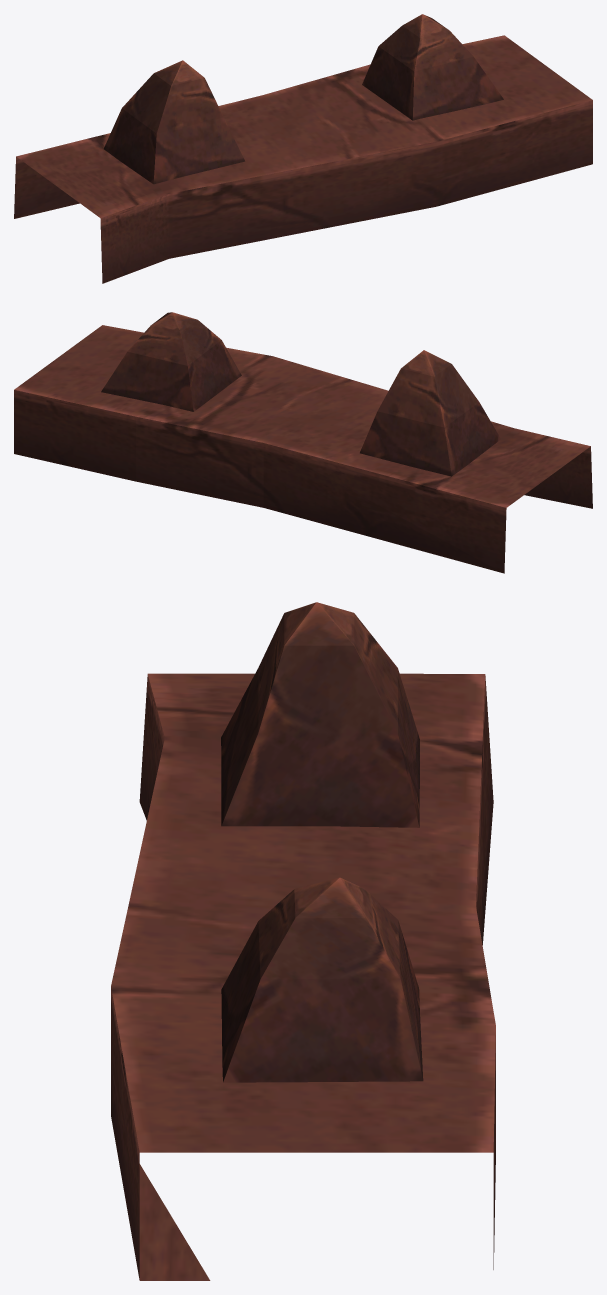
File: lava_cap_straight_01.fbx
The picture shows the model from 3 angles, top to bottom: view 1: azimuth 30°, elevation 25°; view 2: azimuth 150°, elevation 25°; view 3: azimuth 270°, elevation 25°; orthographic projection. The views are drawn at different scales.
Parts seen in each view (by area): view 1: obj1.006; view 2: obj1.006; view 3: obj1.006.
Part boxes in pixels (box(x1,y1,x2,y2)): obj1.006: box(14, 14, 592, 283); obj1.006: box(14, 312, 592, 573); obj1.006: box(111, 602, 495, 1280).
Bounding box in the file's own units: 4 × 1.25 × 1.36.
